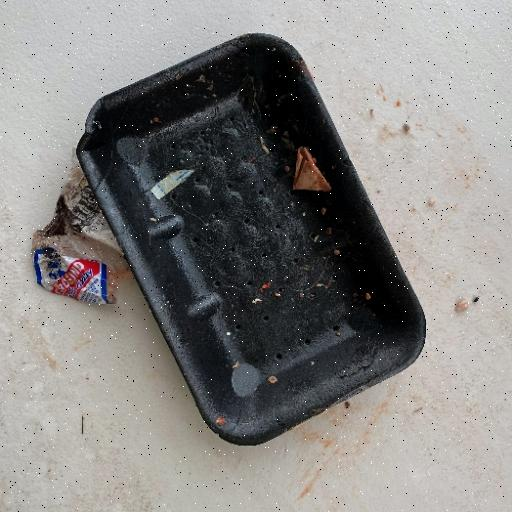Plastic: (74, 31, 428, 447)
